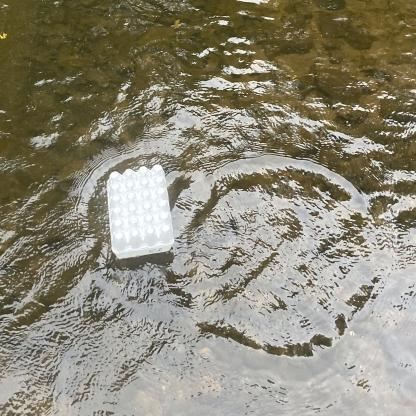trash: (105, 162, 178, 264)
